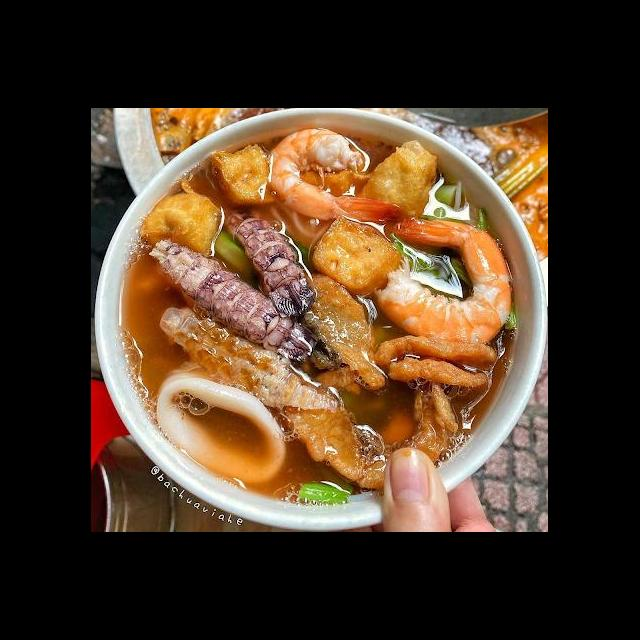ca: (274, 376, 468, 494), (294, 271, 391, 395)
dau hu: (308, 210, 408, 301), (353, 134, 442, 221), (136, 188, 226, 261), (208, 141, 286, 209)
muc: (152, 369, 290, 490)
tom: (371, 213, 516, 358), (260, 124, 410, 228)
tom tit: (146, 236, 322, 369), (156, 303, 338, 415), (216, 201, 320, 321)
